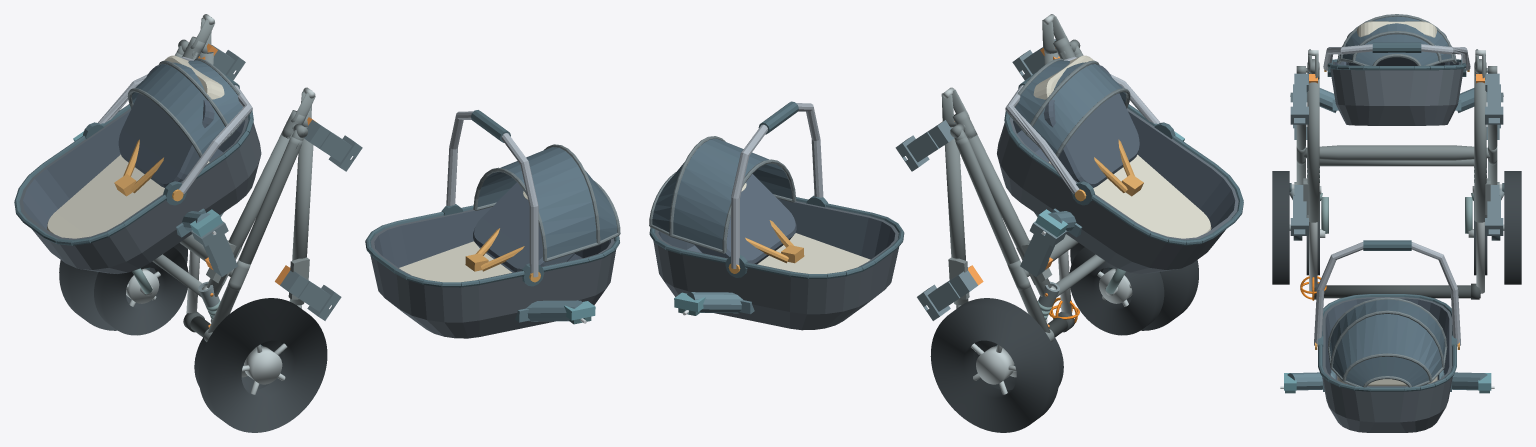
Rendered from D04_w550_state3_wheel_M.glb.
3 renders of one model, left to right at view 1: azimuth 30°, elevation 25°; view 2: azimuth 150°, elevation 25°; view 3: azimuth 270°, elevation 25°, orthographic. The views are drawn at different scales.
Parts seen in each view (by area): view 1: D04_Upper, D04_Lower, RL_tire.004, FR_tire.004, V46_rear_leg_-1.005, RR_tire.004, main_lower_-1.005, main_upper_-1.005, D04_Upper_Mount_H, Universal_Cabin_Receiver_H_-1, Universal_Cabin_Receiver_M_-1, Universal_Cabin_Receiver_L_-1 (+6 smaller); view 2: D04_Upper, D04_Lower, RR_tire.004, FL_tire.004, V46_rear_leg_1.005, RL_tire.004, main_lower_1.005, main_upper_1.005, D04_Upper_Mount_H, Universal_Cabin_Receiver_H_1, Universal_Cabin_Receiver_M_1, Universal_Cabin_Receiver_L_1 (+6 smaller); view 3: D04_Upper, D04_Lower, V46_rearbar.005, RL_tire.004, RR_tire.004, main_upper_1.005, main_upper_-1.005, round_handle.004, D04_Upper_Mount_H, front_fixed_round_tube.004, Universal_Cabin_Receiver_M_-1, Universal_Cabin_Receiver_M_1 (+11 smaller).
Boxes of the visible parts, x1,y1,x2,y2 form: D04_Upper: (365, 110, 620, 338); D04_Lower: (14, 55, 261, 273); RL_tire.004: (198, 298, 327, 432); FR_tire.004: (94, 247, 188, 335); V46_rear_leg_-1.005: (208, 136, 302, 332); RR_tire.004: (59, 243, 187, 330); main_lower_-1.005: (206, 132, 293, 296); main_upper_-1.005: (289, 127, 313, 305); D04_Upper_Mount_H: (515, 300, 595, 324); Universal_Cabin_Receiver_H_-1: (280, 270, 341, 320); Universal_Cabin_Receiver_M_-1: (304, 120, 362, 171); Universal_Cabin_Receiver_L_-1: (191, 221, 237, 276); D04_Upper: (649, 101, 904, 330); D04_Lower: (997, 55, 1243, 273); RR_tire.004: (930, 298, 1059, 432); FL_tire.004: (1069, 247, 1164, 335); V46_rear_leg_1.005: (955, 136, 1050, 332); RL_tire.004: (1070, 243, 1198, 330); main_lower_1.005: (964, 132, 1051, 296); main_upper_1.005: (944, 127, 968, 305); D04_Upper_Mount_H: (674, 292, 754, 315); Universal_Cabin_Receiver_H_1: (917, 270, 977, 320); Universal_Cabin_Receiver_M_1: (895, 120, 953, 171); Universal_Cabin_Receiver_L_1: (1020, 221, 1066, 276); D04_Upper: (1314, 240, 1460, 432); D04_Lower: (1323, 14, 1470, 125); V46_rearbar.005: (1304, 145, 1489, 160); RL_tire.004: (1272, 171, 1289, 284); RR_tire.004: (1504, 171, 1521, 284); main_upper_1.005: (1474, 78, 1486, 222); main_upper_-1.005: (1307, 78, 1319, 222); round_handle.004: (1324, 285, 1480, 298); D04_Upper_Mount_H: (1280, 370, 1494, 393); front_fixed_round_tube.004: (1319, 159, 1474, 166); Universal_Cabin_Receiver_M_-1: (1290, 73, 1308, 124); Universal_Cabin_Receiver_M_1: (1485, 73, 1503, 124).
Bounding box in the file's own units: 1.42 × 0.7543 × 0.656.
